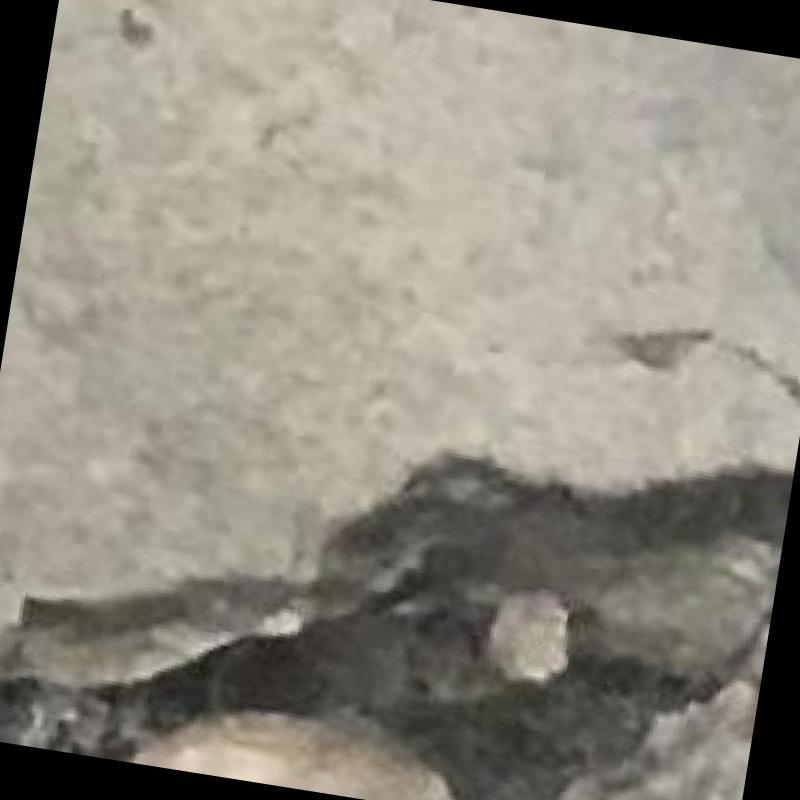crack: (0, 456, 792, 800)
